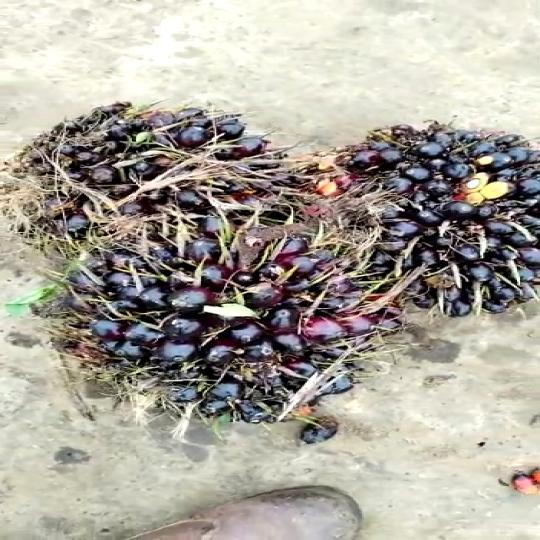mentah: (51, 215, 382, 448), (292, 110, 540, 323), (13, 97, 299, 248)
